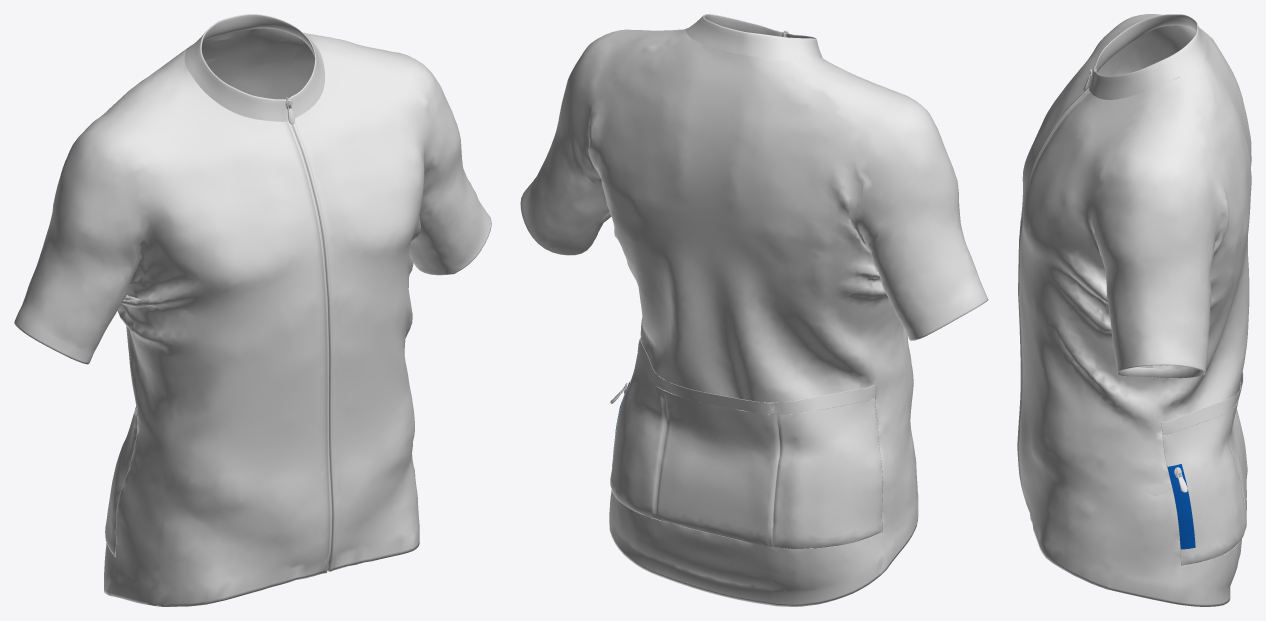
File: n-cycling-jersey.drc.glb
The picture shows the model from 3 angles, left to right: view 1: azimuth 30°, elevation 25°; view 2: azimuth 150°, elevation 25°; view 3: azimuth 270°, elevation 25°; orthographic projection. The views are drawn at different scales.
Parts seen in each view (by area): view 1: M740158_mesh_out, M740158_mesh_in; view 2: M740158_mesh_out; view 3: M740158_mesh_out, M740158_mesh_in, M740158_mesh_zipper.
Part boxes in pixels (x1,y1,x2,y2): M740158_mesh_out: (14, 14, 491, 606); M740158_mesh_in: (124, 28, 325, 299); M740158_mesh_out: (520, 14, 988, 606); M740158_mesh_out: (1017, 14, 1251, 606); M740158_mesh_in: (1086, 25, 1225, 496); M740158_mesh_zipper: (1167, 464, 1195, 549).
Bounding box in the file's own units: 0.3493 × 0.4054 × 0.1578.
Materials: 4 (1 with a texture image).
